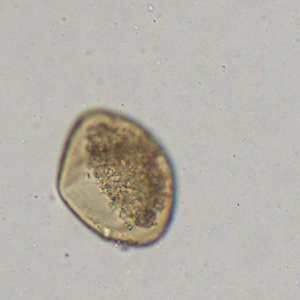Fasciola_hepatica_egg: (55, 106, 177, 250)
